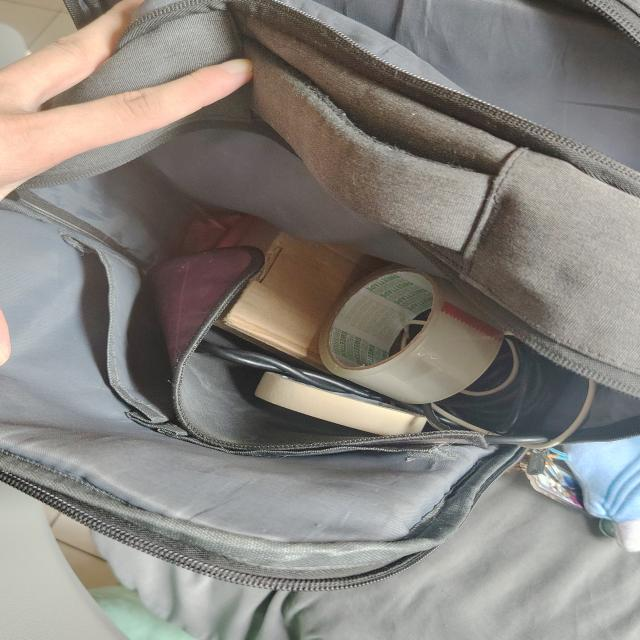tape: (320, 268, 503, 404), (255, 372, 426, 435)
